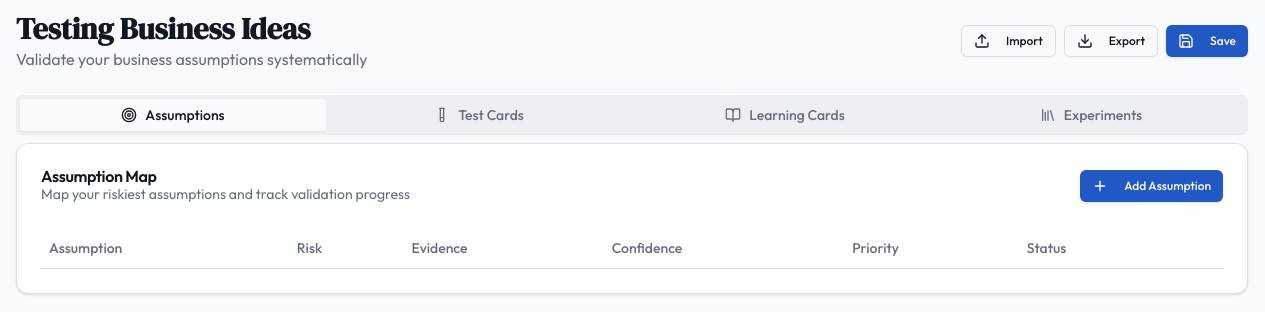
Test: TestingBusinessIdeasCanvas › Tab Navigation › switches to Learning Cards tab
The width and height of the screenshot is (1265, 312).
Click the tab "Learning Cards".
click(785, 115)  # box [632,99,938,131]
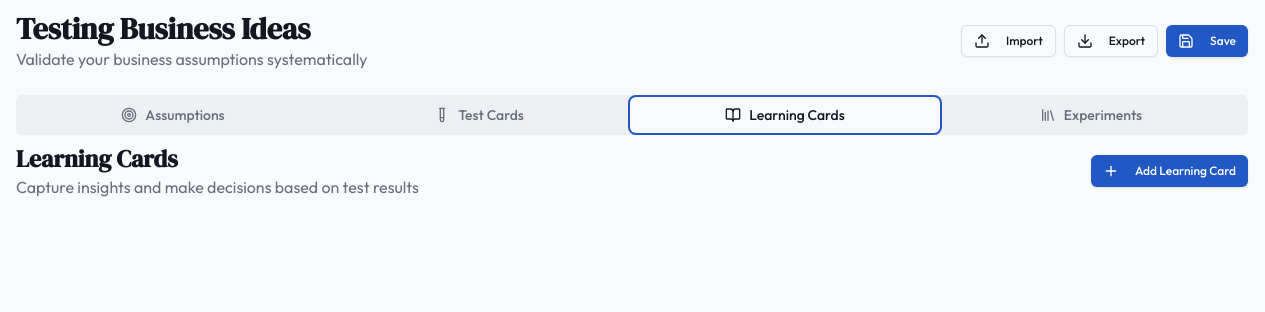
Now the heading "Learning Cards" is shown, box [16,142,178,175]
Now the text "Capture insights and make decisions based on test results" is shown, box [16,175,419,199]
Now the button "Add Learning Card" is shown, box [1091,155,1248,187]
